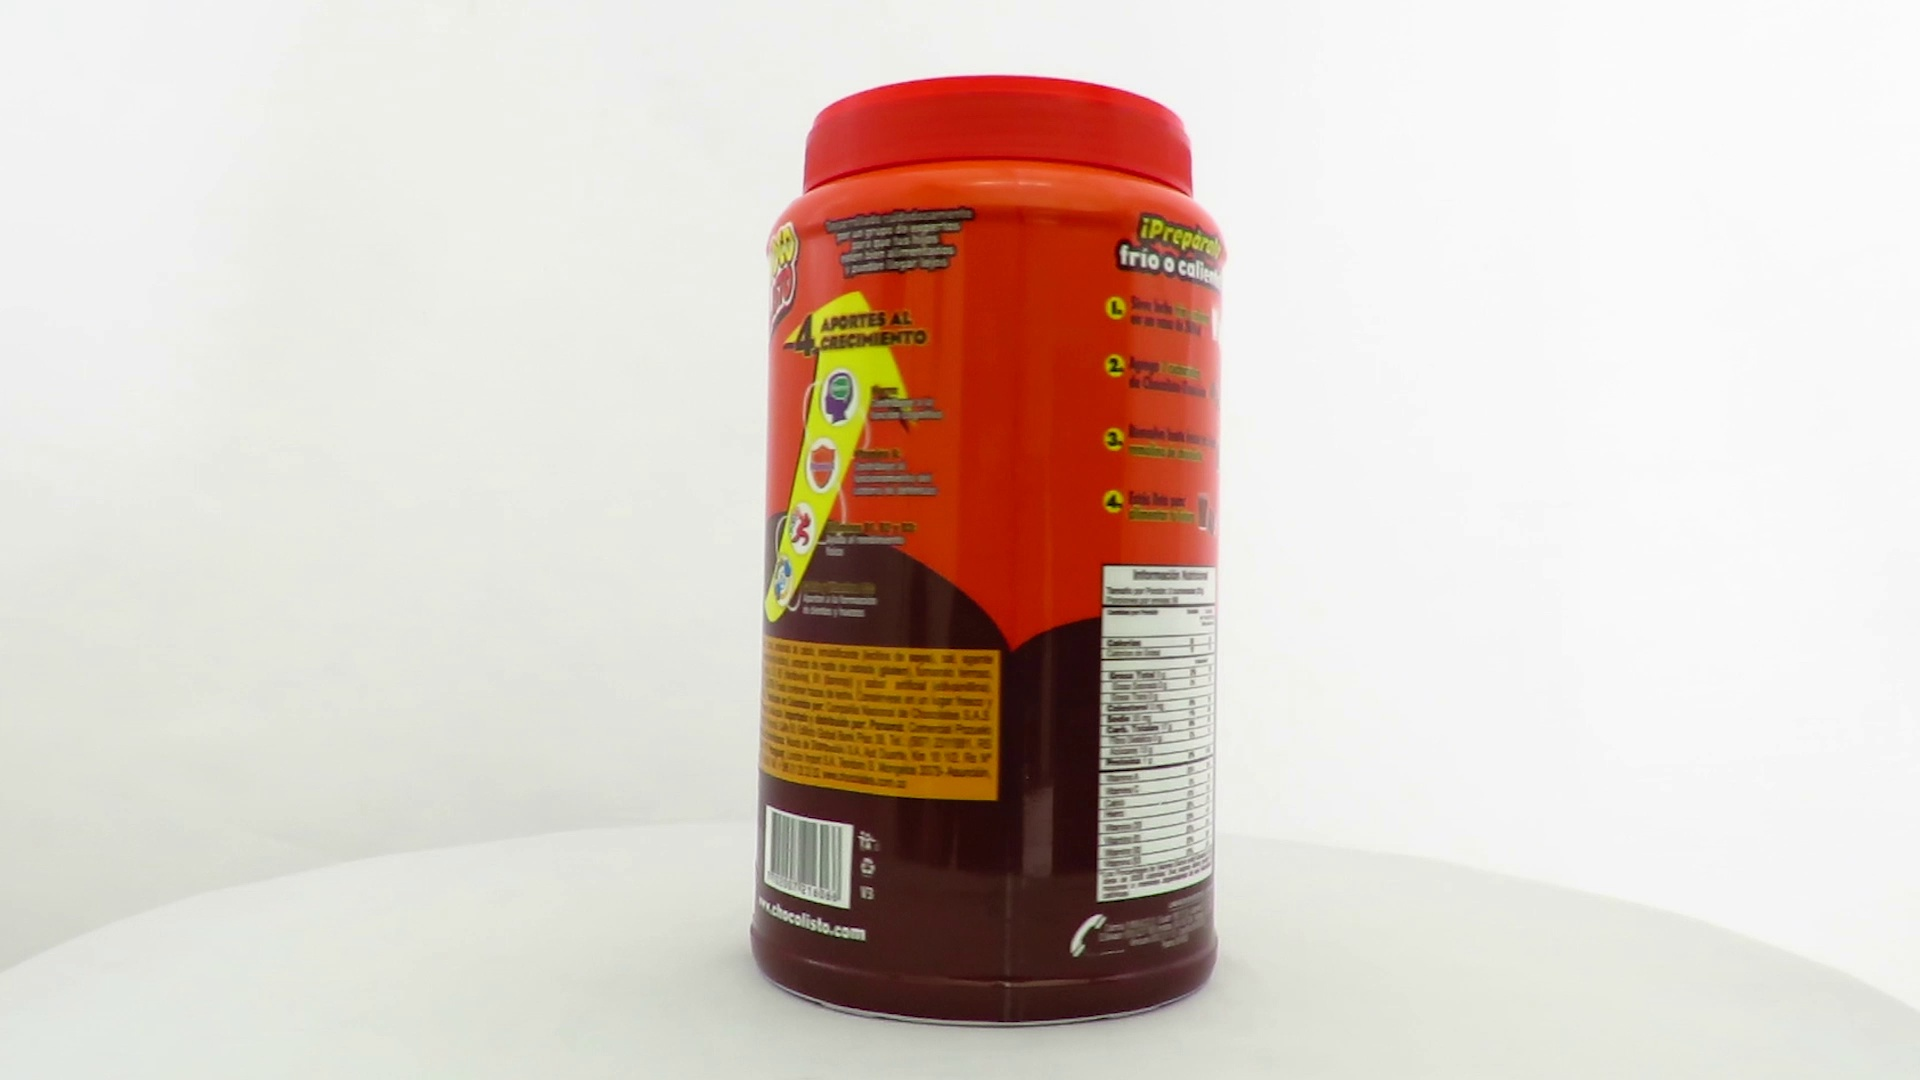COL0170103TRR00100: (745, 70, 1233, 1035)
